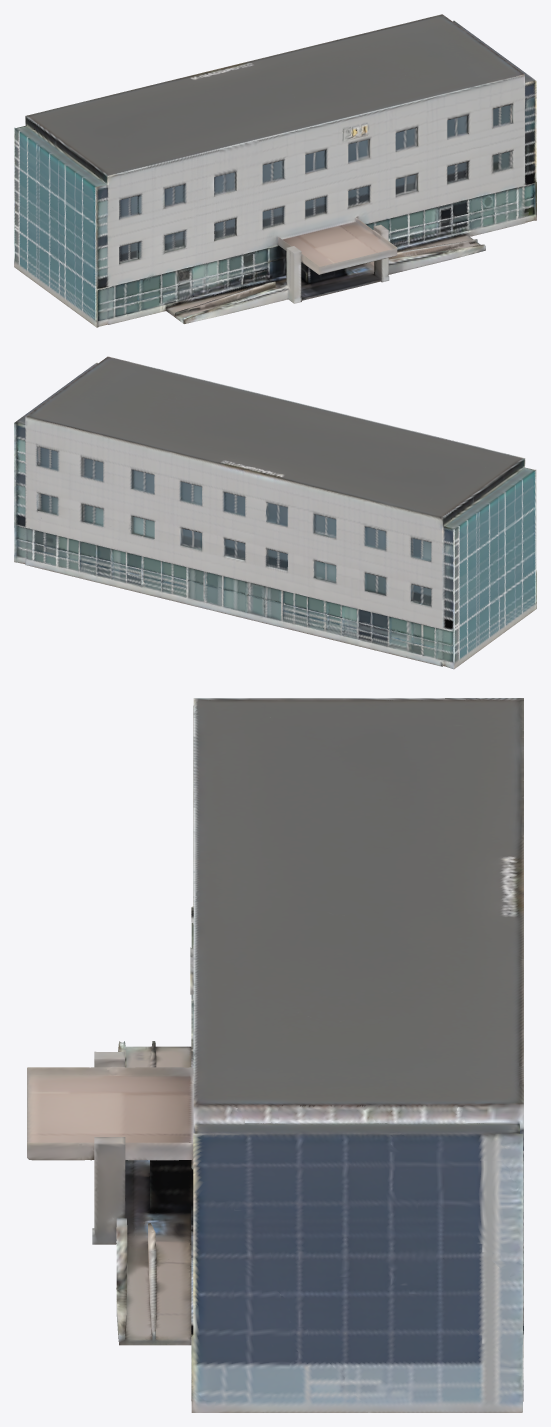
Rendered from base_basic_shaded.fbx.
The picture shows the model from 3 angles, top to bottom: view 1: azimuth 30°, elevation 25°; view 2: azimuth 150°, elevation 25°; view 3: azimuth 270°, elevation 25°; orthographic projection. The views are drawn at different scales.
Parts seen in each view (by area): view 1: model; view 2: model; view 3: model.
Part boxes in pixels (left/top/right/bottom): model: left=14, top=14, right=536, bottom=327; model: left=14, top=356, right=536, bottom=669; model: left=27, top=698, right=523, bottom=1412.
Size of the model in its own units: 173 by 55.68 by 84.58.
